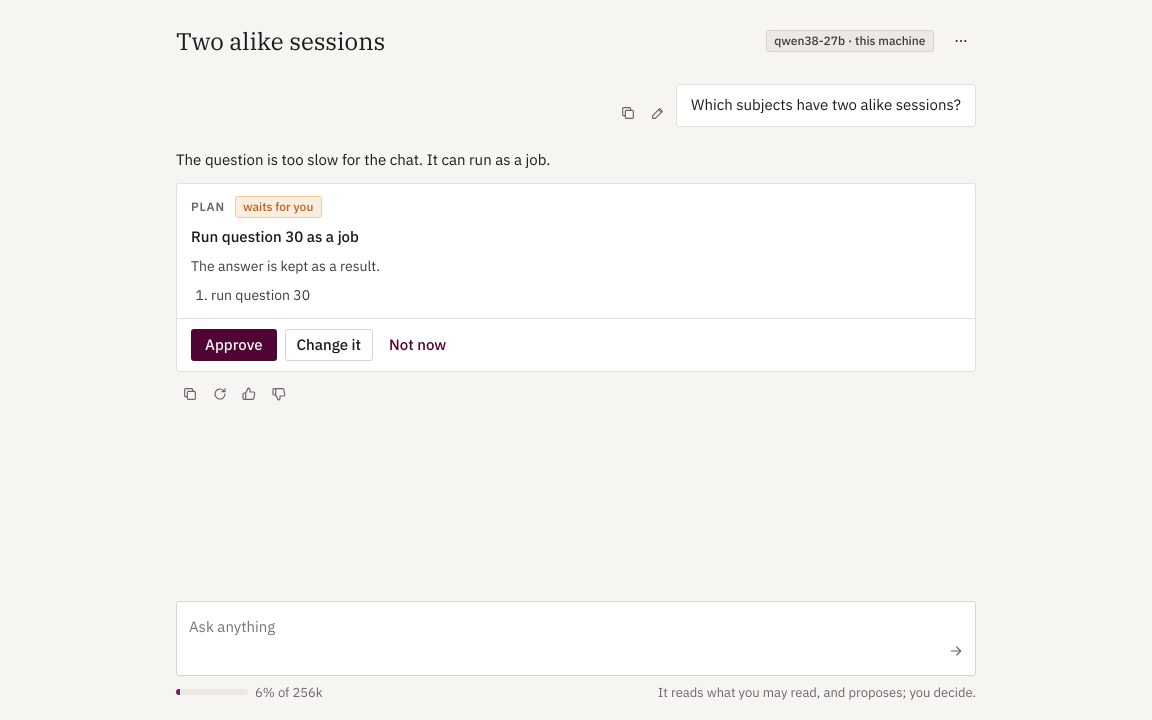
it: an assistant before 1.0.0-alpha.34 › declines as before
Click the button "Not now".
click(418, 346)  # box [381,330,454,362]
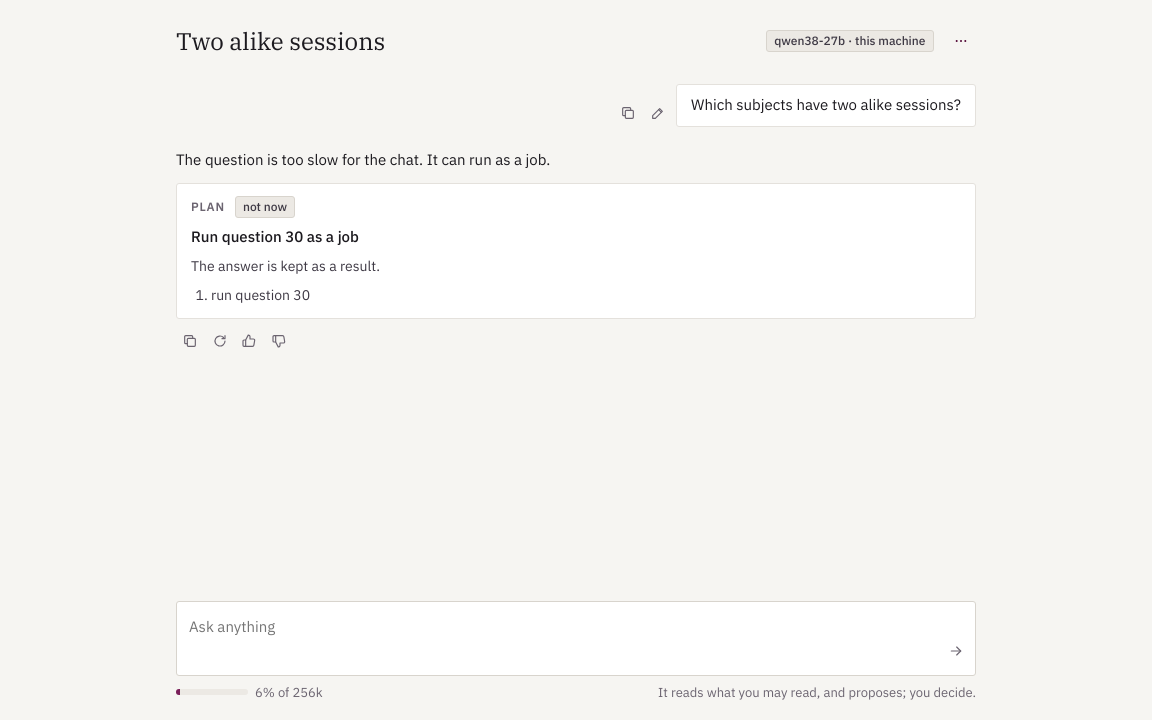
Expected: the element with class "approval-foot" is gone
